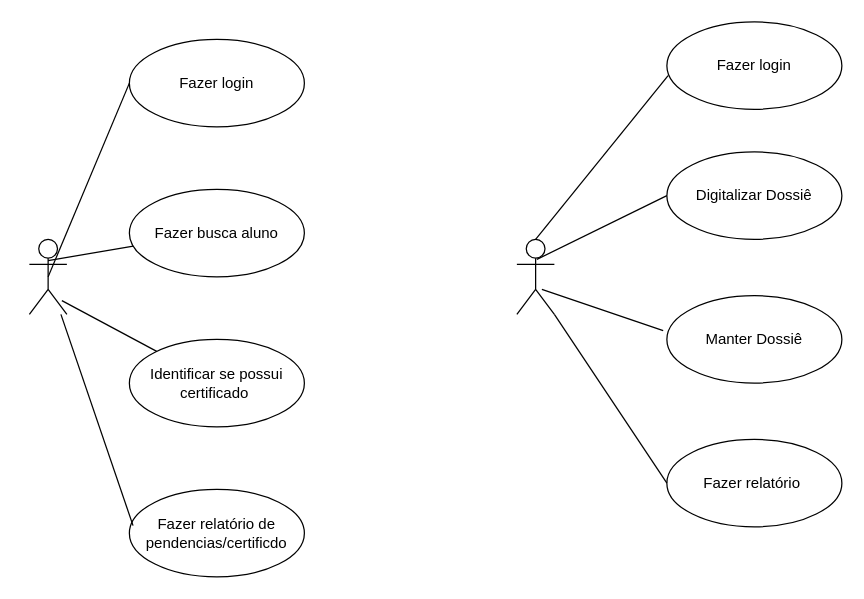
Image size: 864x599. Some labels were removed from this diagram. Each missing label, with the box of its shape:
Estagiário: (516, 238, 554, 314)
Prograd: (28, 238, 67, 314)
